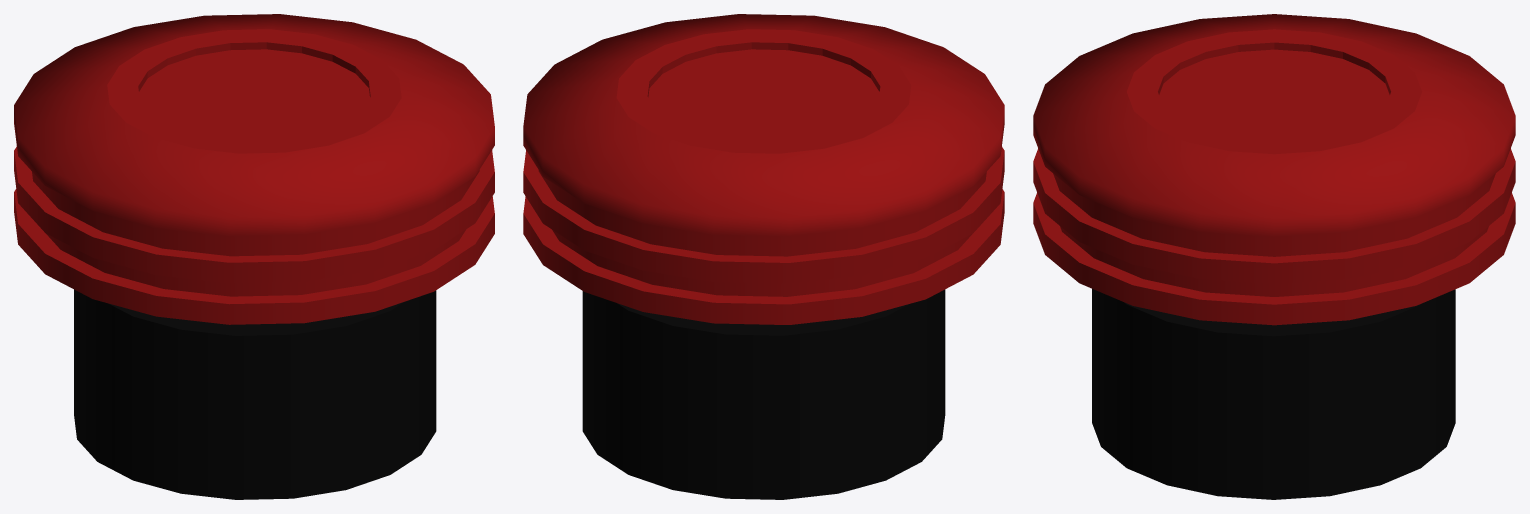
Rendered from Button.FBX.
The picture shows the model from 3 angles, left to right: view 1: azimuth 30°, elevation 25°; view 2: azimuth 150°, elevation 25°; view 3: azimuth 270°, elevation 25°; orthographic projection.
Parts seen in each view (by area): view 1: Button, Base; view 2: Button, Base; view 3: Button, Base.
Part boxes in pixels (left/top/right/bottom): Button: left=14, top=14, right=494, bottom=324; Base: left=74, top=289, right=436, bottom=499; Button: left=523, top=14, right=1004, bottom=324; Base: left=582, top=289, right=945, bottom=499; Button: left=1033, top=14, right=1515, bottom=325; Base: left=1092, top=289, right=1455, bottom=499.
Size of the model in its own units: 28.43 by 21.54 by 28.43.
